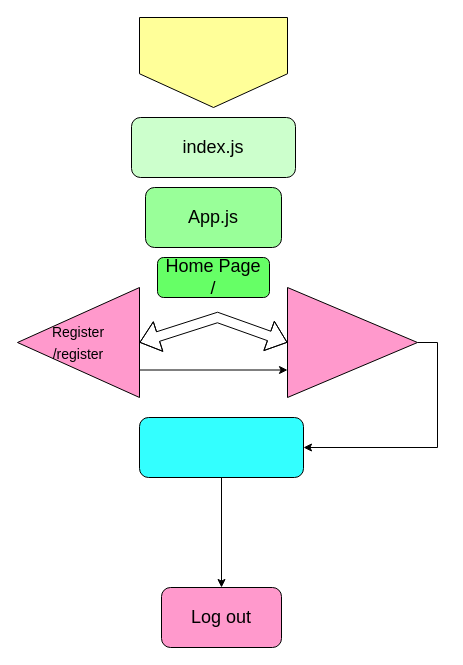
Image size: 463x665. Some labels were removed from this diagram. Here are the shapes that lost their labels. From the top down, the centre of each, then its label:
(213,62): index HTML
(352,342): Login /login
(221,447): Tasks
